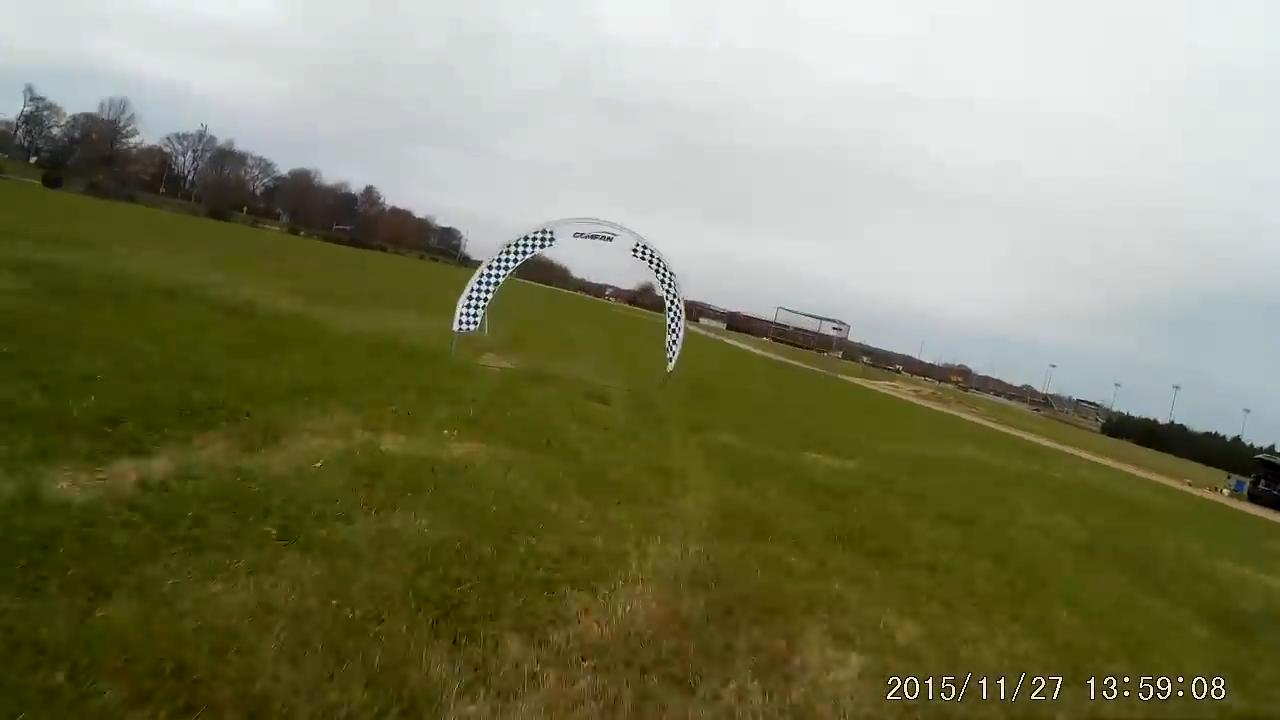gate: (450, 213, 687, 371)
